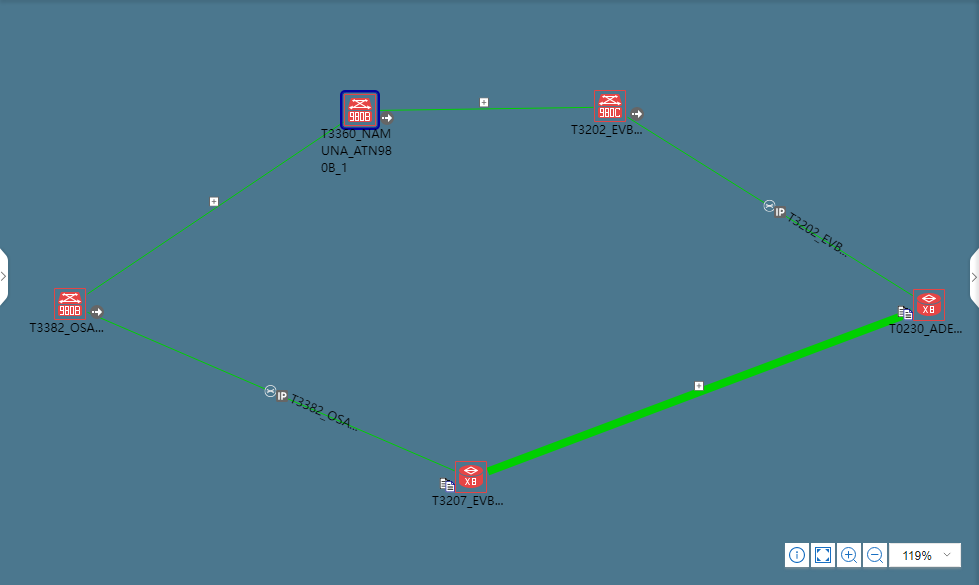ATN_Red: (52, 289, 87, 319), (597, 94, 626, 123), (346, 100, 375, 129)
Link_Green: (486, 314, 907, 475), (98, 314, 450, 468), (633, 118, 910, 300), (89, 124, 335, 292), (382, 106, 500, 117)
Router_Red: (456, 461, 485, 496), (915, 289, 944, 319)
